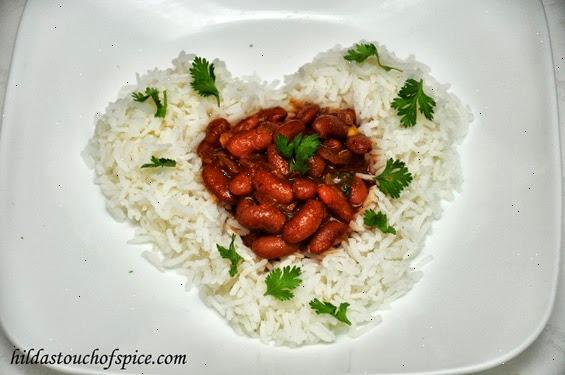rajma: (217, 119, 359, 241)
rice: (365, 53, 464, 291)
